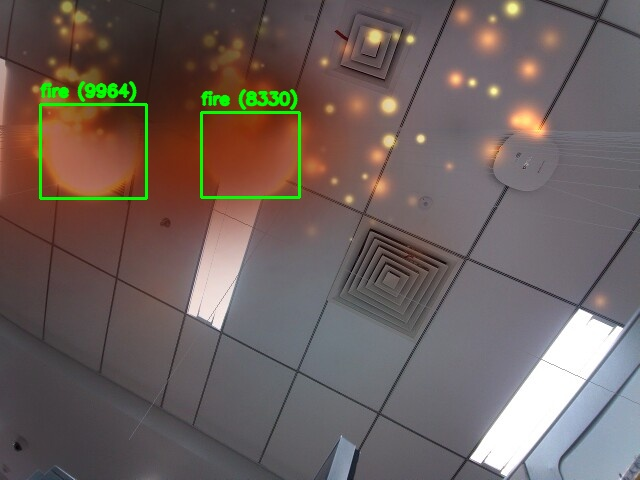fire: (40, 104, 146, 198), (201, 112, 299, 197)
